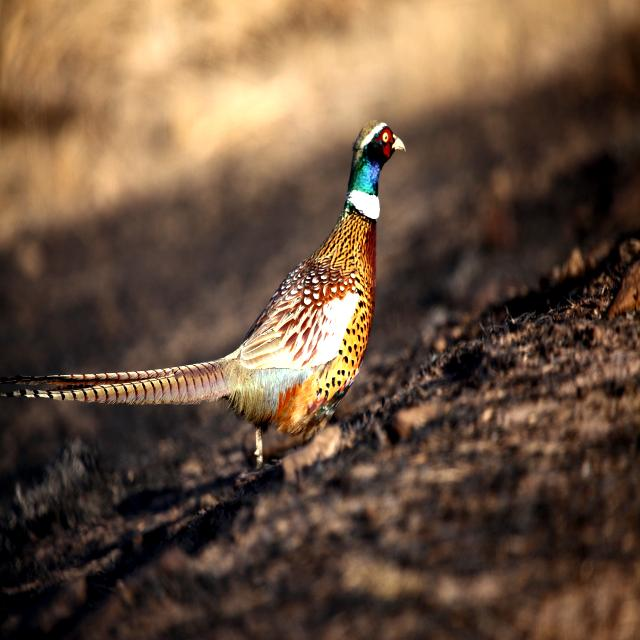Phasianus Colchicus: (1, 350, 242, 405)
